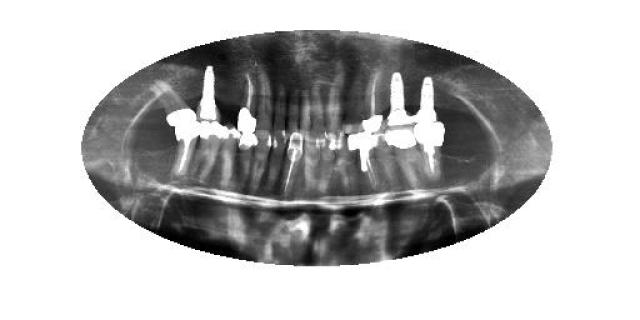Fillings: (384, 126, 428, 186), (149, 79, 199, 126), (188, 121, 226, 182), (238, 132, 258, 190)
Implant: (348, 132, 382, 192), (416, 122, 449, 182), (166, 125, 199, 179), (280, 134, 305, 195), (361, 71, 385, 134), (196, 64, 220, 124), (235, 70, 257, 134), (415, 74, 441, 125), (388, 72, 412, 126)
